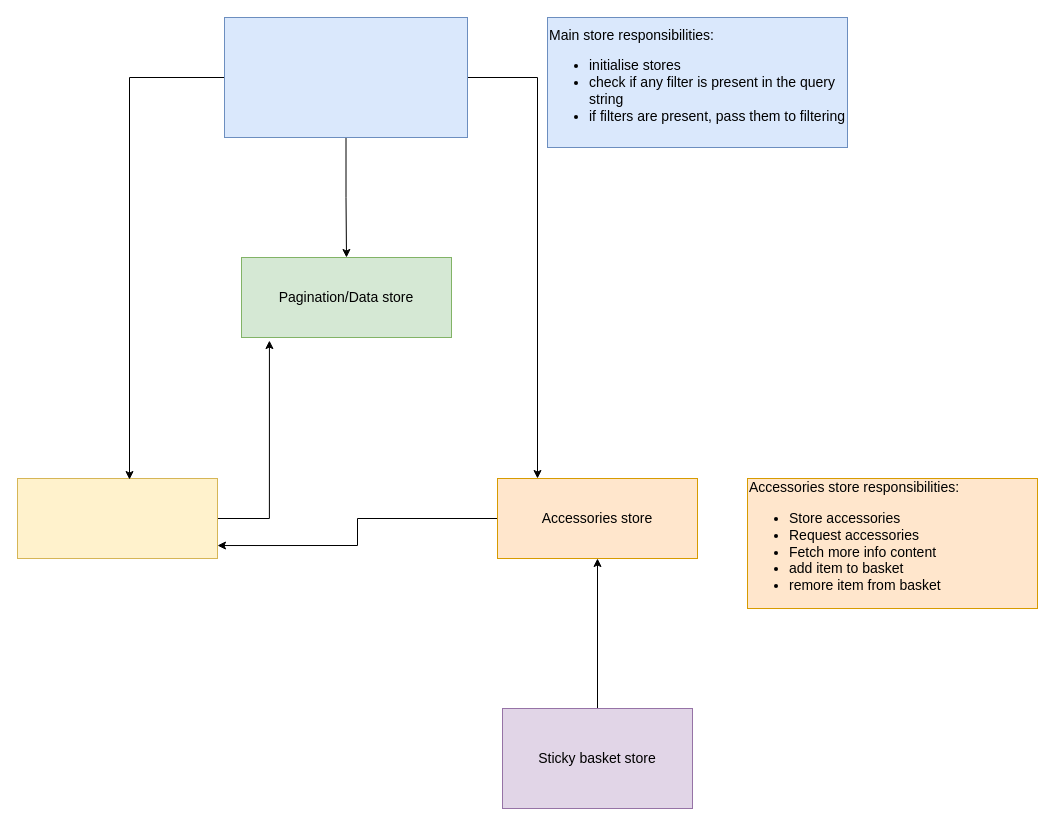
Some shapes in this 1055 by 826 pixel diagram are drawn without their labels. The centre of each missing label's shape, as x and y in pixels:
"Accessories page store (or main store)" belongs at point 346,77.
"Filtering store" belongs at point 117,518.
